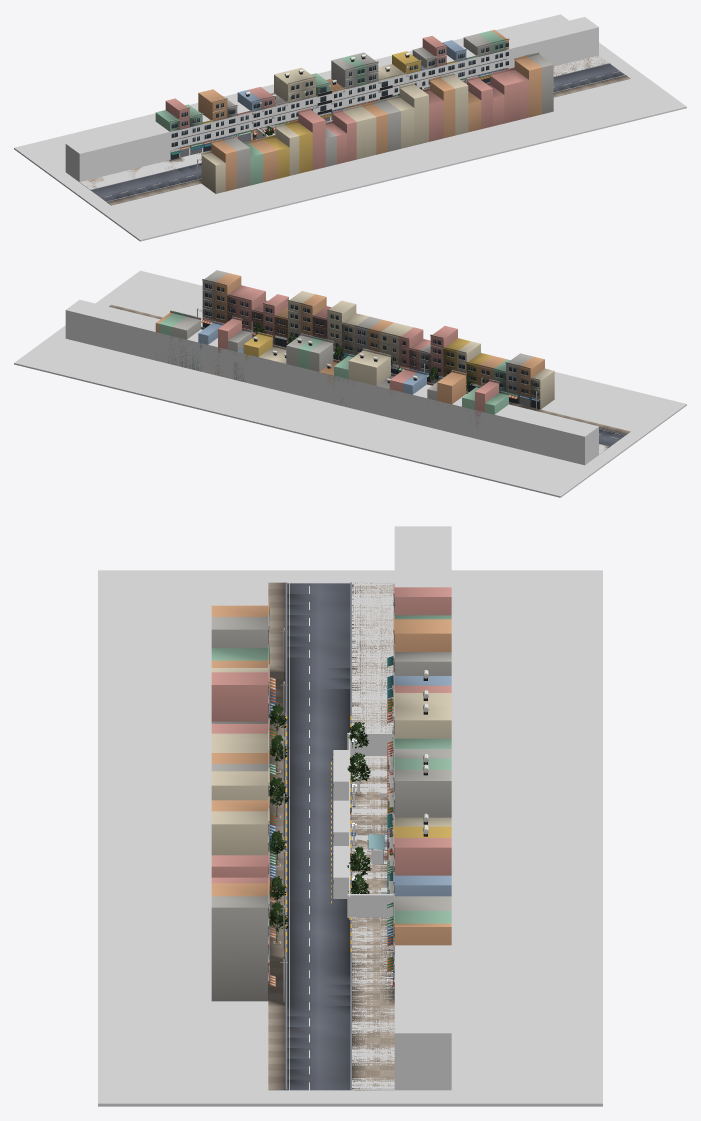
The model's file is zone_00_pickup.glb.
The picture shows the model from 3 angles, top to bottom: view 1: azimuth 30°, elevation 25°; view 2: azimuth 150°, elevation 25°; view 3: azimuth 270°, elevation 25°; orthographic projection. The views are drawn at different scales.
Visible parts, largest first — view 1: ENV_nha_pho_xa, COL_ground, COL_nha_bac, ENV_nha_pho, ENV_ground, COL_via_he_bac, ENV_bo_via; view 2: COL_ground, ENV_nha_pho_xa, COL_nha_bac, ENV_nha_pho, ENV_ground; view 3: COL_ground, ENV_ground, ENV_nha_pho_xa, COL_via_he_bac, COL_nha_bac, ENV_nha_pho, ENV_bo_via, COL_bien_dong.
Boxes of the visible parts, box(x1,y1,x2,y2) form: ENV_nha_pho_xa: box(155, 29, 553, 193); COL_ground: box(14, 14, 686, 241); COL_nha_bac: box(65, 17, 598, 181); ENV_nha_pho: box(237, 51, 427, 139); ENV_ground: box(80, 55, 630, 205); COL_via_he_bac: box(79, 55, 609, 190); ENV_bo_via: box(90, 63, 625, 201); COL_ground: box(14, 270, 686, 497); ENV_nha_pho_xa: box(155, 270, 554, 425); COL_nha_bac: box(65, 300, 598, 465); ENV_nha_pho: box(237, 332, 427, 405); ENV_ground: box(109, 305, 630, 450); COL_ground: box(98, 570, 602, 1106); ENV_ground: box(268, 582, 394, 1090); ENV_nha_pho_xa: box(211, 584, 451, 1001); COL_via_he_bac: box(350, 582, 394, 1090); COL_nha_bac: box(394, 526, 451, 1090); ENV_nha_pho: box(387, 670, 451, 908); ENV_bo_via: box(285, 582, 351, 1090); COL_bien_dong: box(347, 894, 393, 917).
Size of the model in its own units: 200 by 18.28 by 80.
6 materials, 3 textured.
